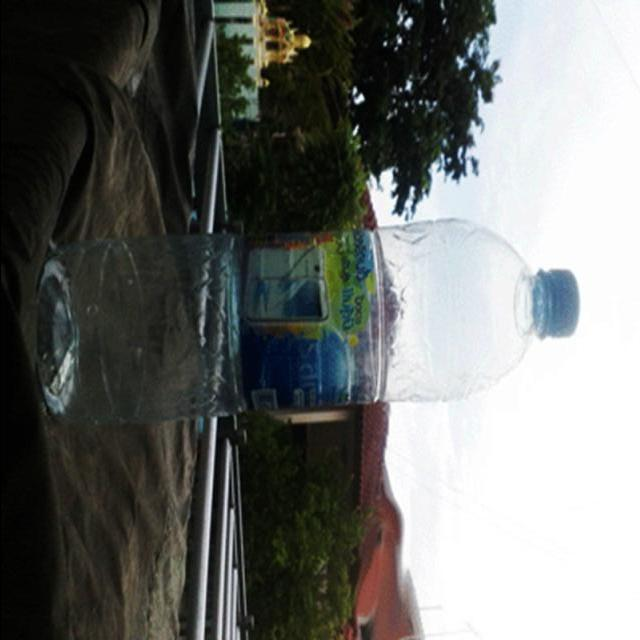cap: (238, 226, 374, 414), (535, 265, 582, 346)
not-crumbled: (26, 216, 583, 434)
